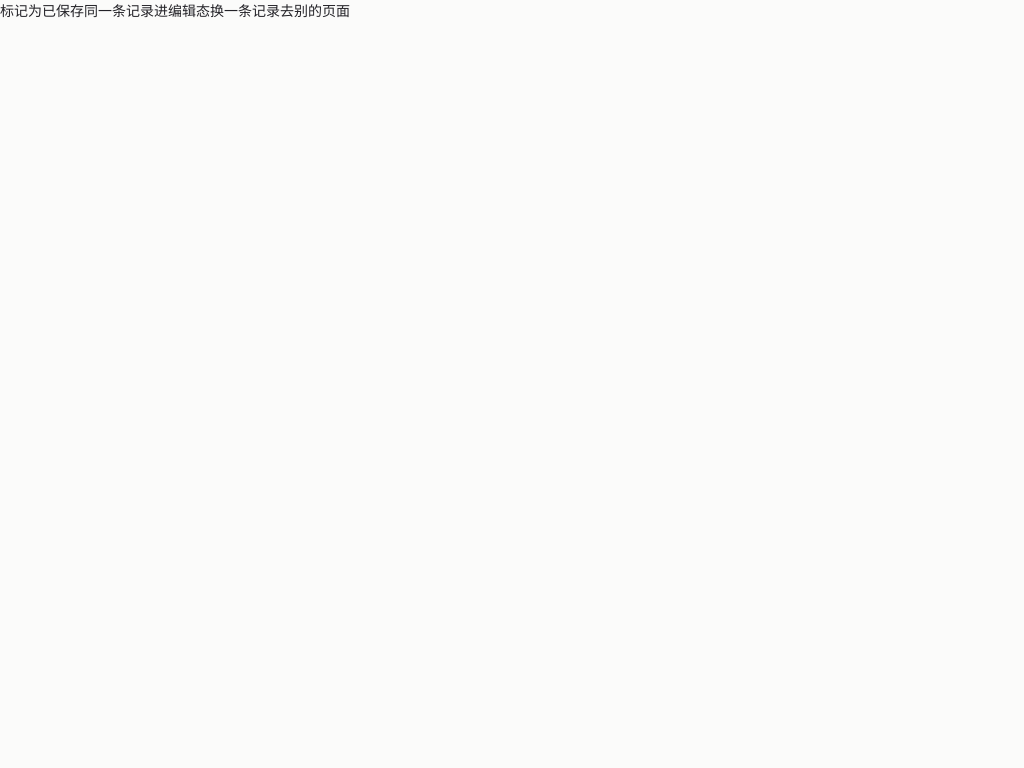
it: useUnsavedGuard › 换页面时会拦下来
Click the link "去别的页面". click: (315, 10)
box: [280,2,350,19]
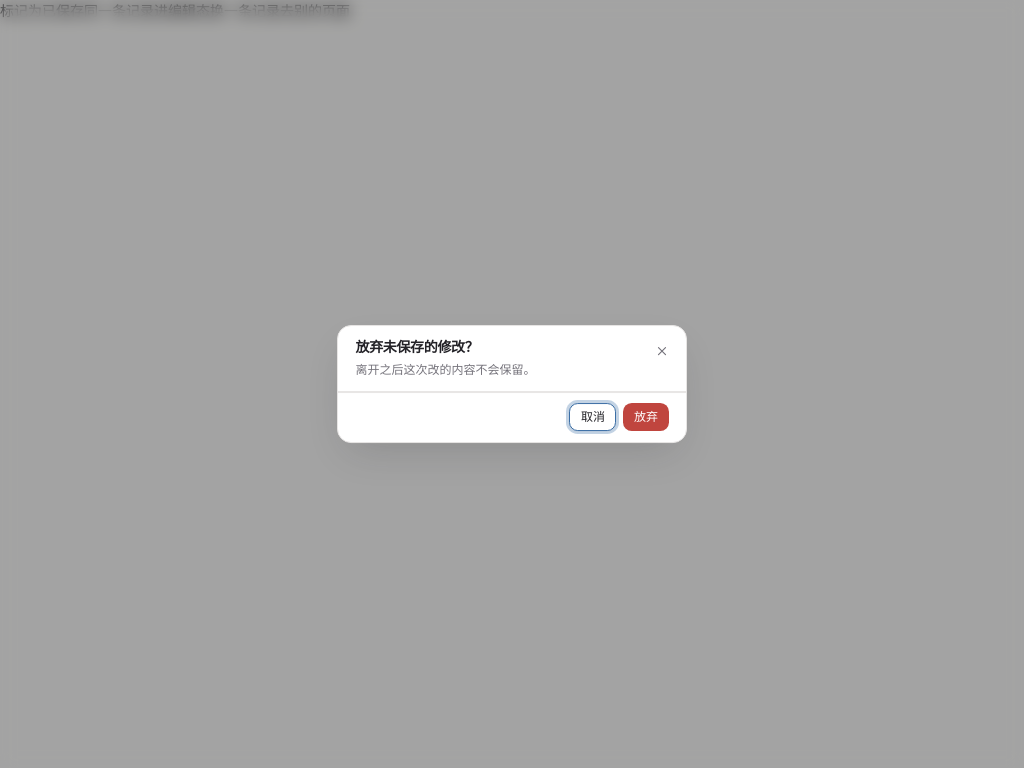
Check: the heading "放弃未保存的修改？" is shown, box [356,338,478,355]
